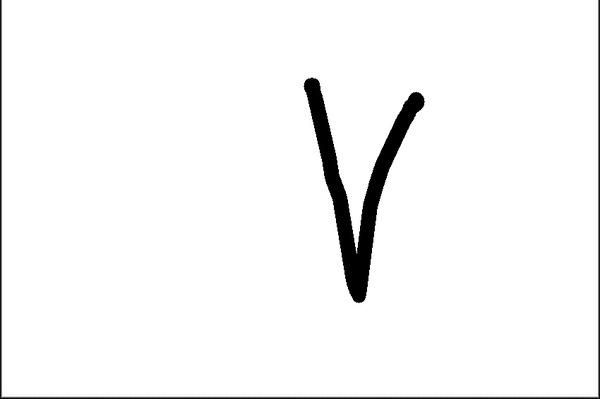V: (295, 68, 433, 306)
